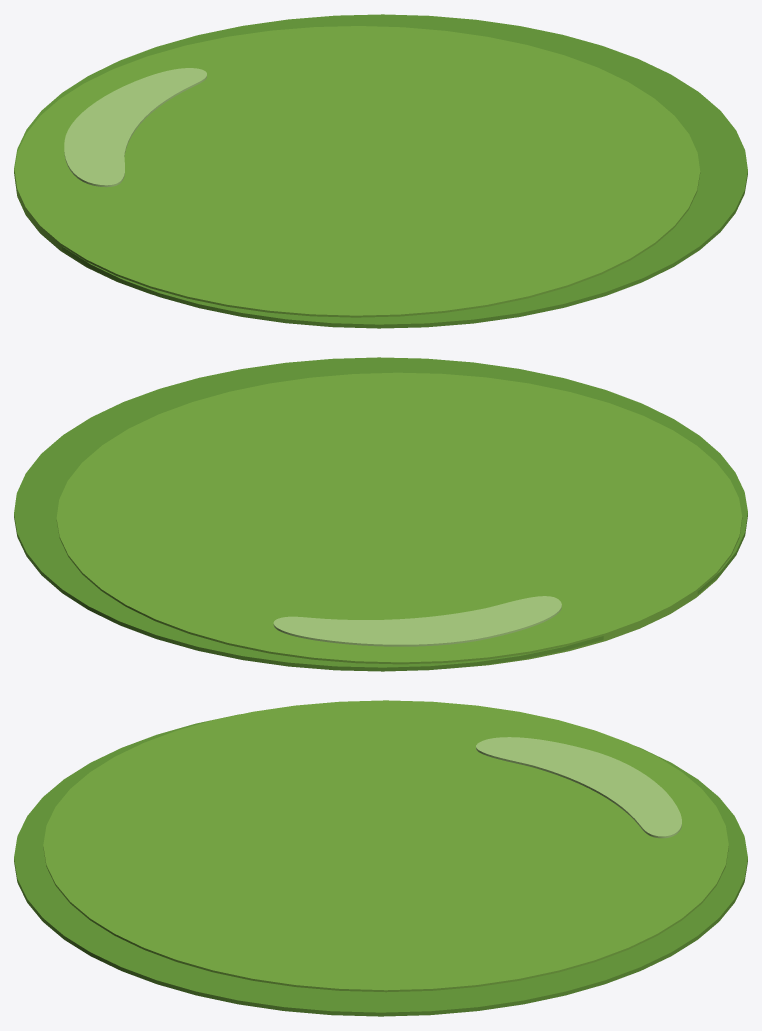
Rendered from emoji_u1f7e2.glb.
The picture shows the model from 3 angles, top to bottom: view 1: azimuth 30°, elevation 25°; view 2: azimuth 150°, elevation 25°; view 3: azimuth 270°, elevation 25°; orthographic projection.
Parts seen in each view (by area): view 1: emoji_u1f7e2; view 2: emoji_u1f7e2; view 3: emoji_u1f7e2.
Boxes of the visible parts, x1,y1,x2,y2 form: emoji_u1f7e2: (14,14,747,328); emoji_u1f7e2: (14,357,747,671); emoji_u1f7e2: (14,700,747,1016).
Size of the model in its own units: 0.0339 by 0.0006 by 0.0339.
